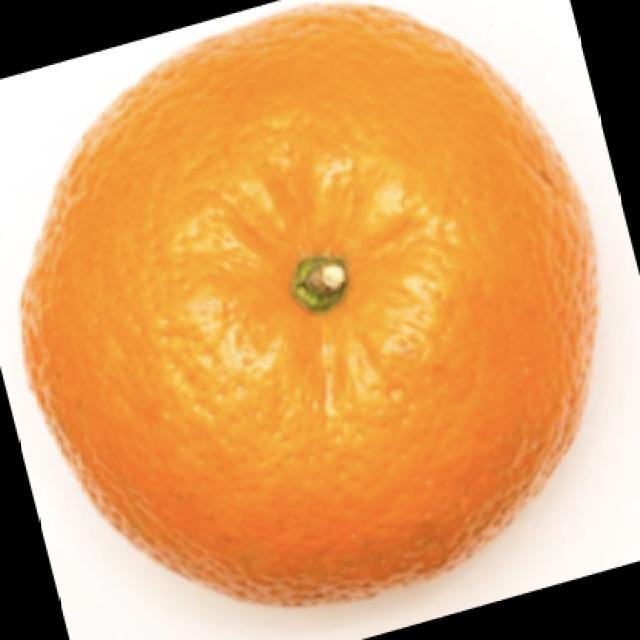matang: (22, 6, 595, 603)
